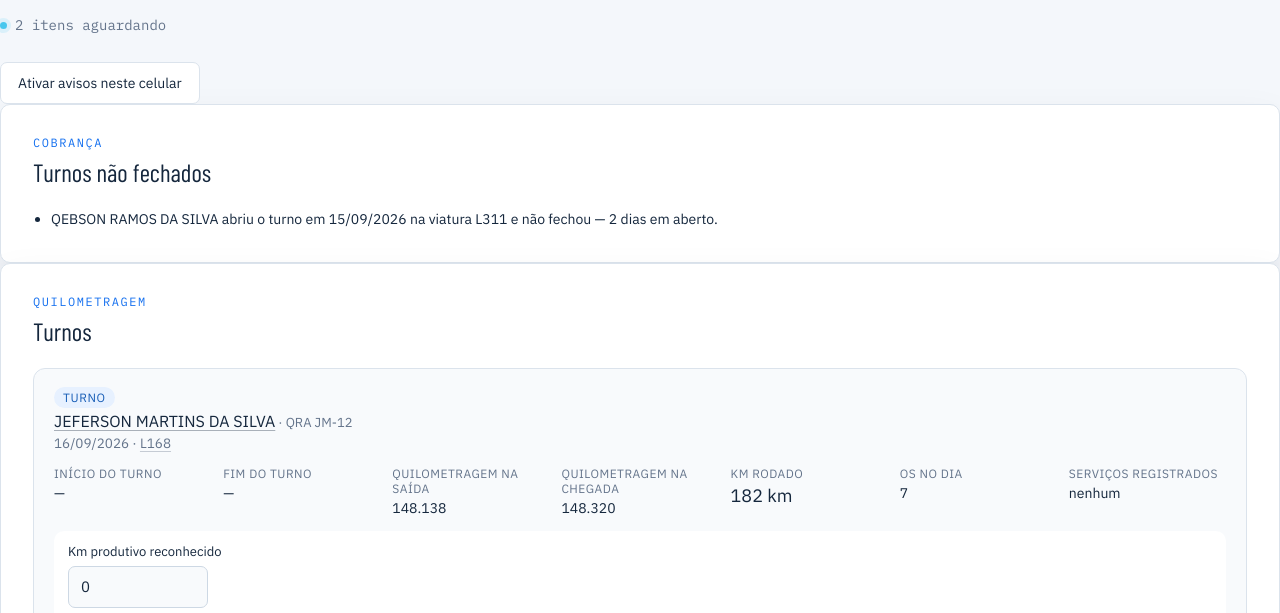
Test: o km morto acompanha o km produtivo que o administrador reconhece
Replace the text in the field labelled "Km produtivo reconhecido" with "150" at (138, 587), box [68, 566, 208, 608]
(page scrolled)
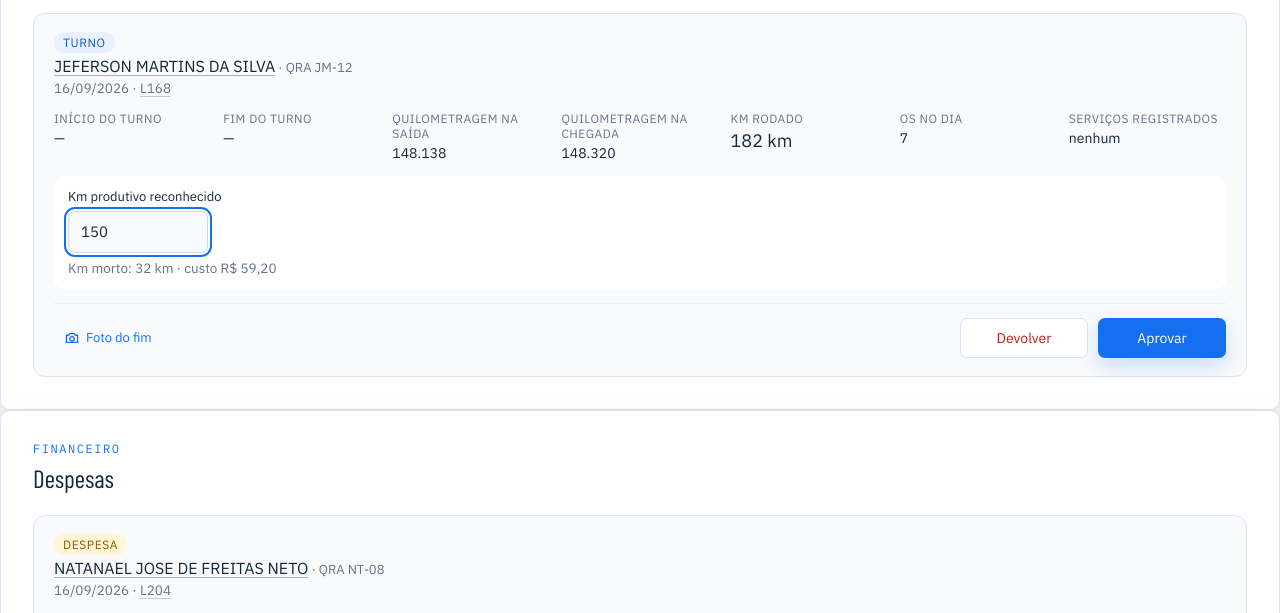
expect the text "32 km" is shown: met, box [135, 259, 173, 277]
